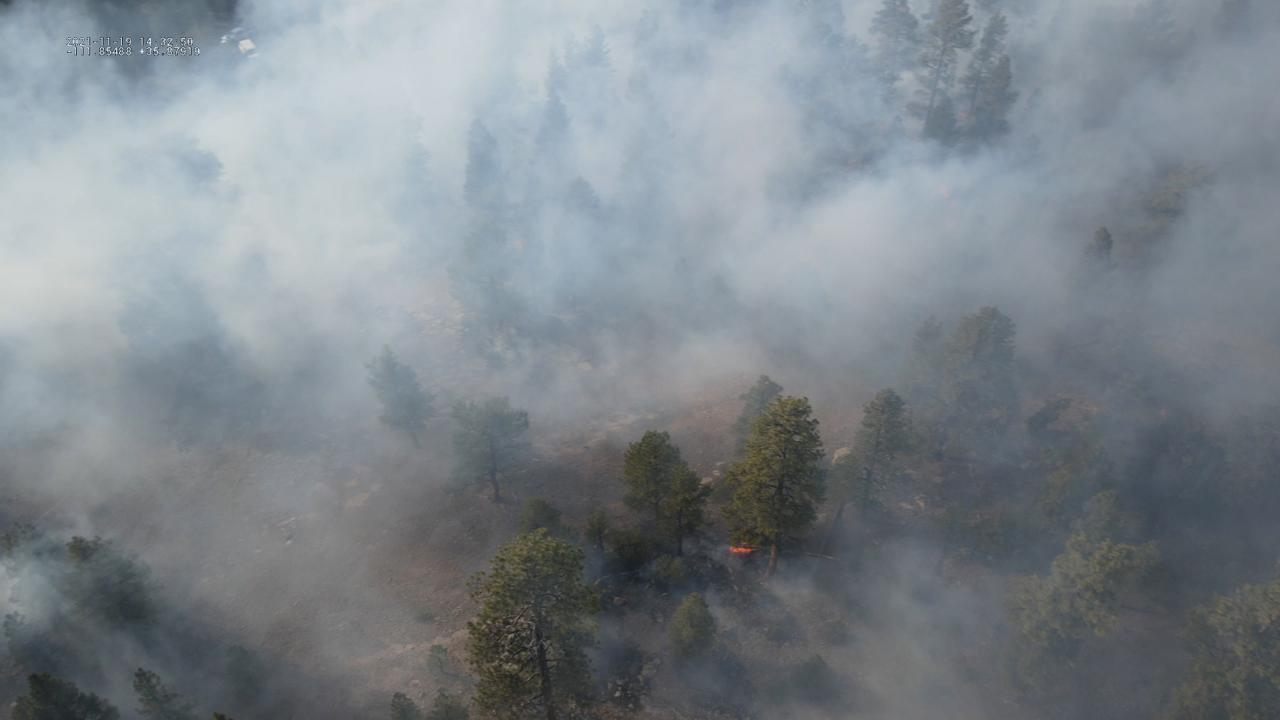fire: (728, 545, 755, 555)
smoke: (0, 0, 1280, 720)
